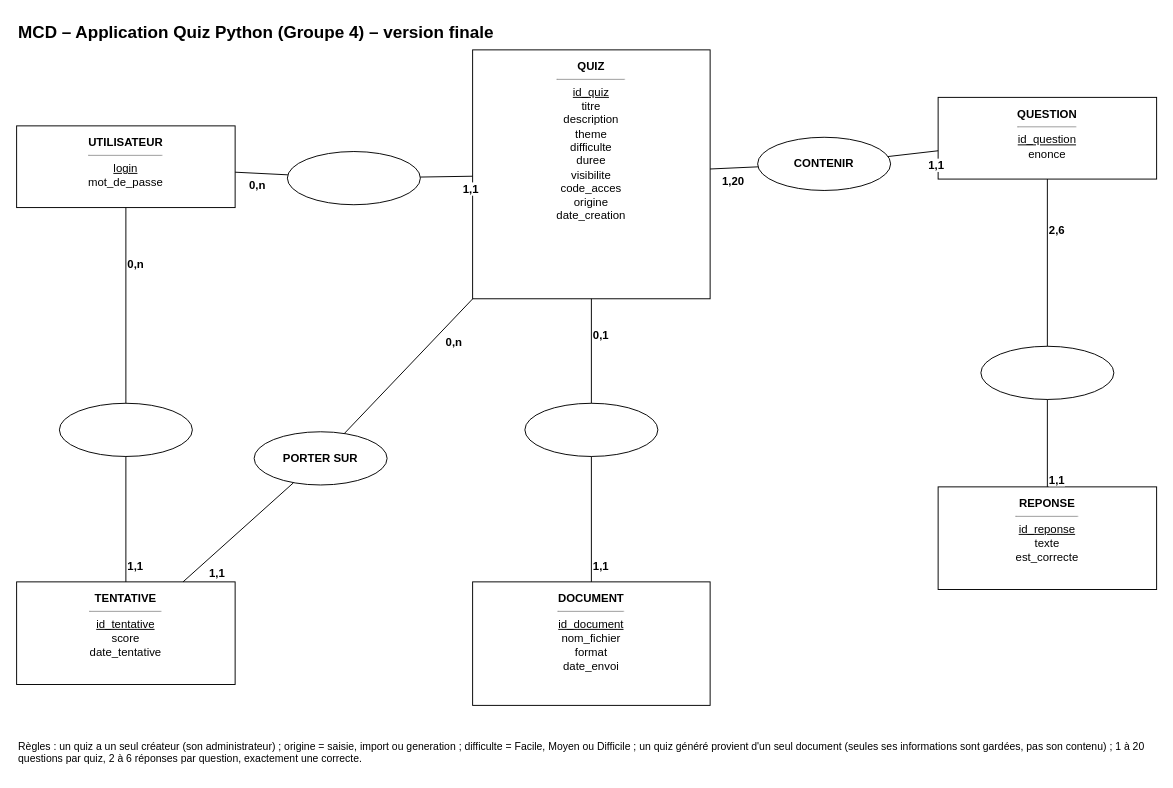
Image size: 1173x788. Some labels were removed from this diagram. Here are the shapes that lost their labels. From the top down, the centre of each, then its label:
pixel 353 178: CRÉER
pixel 1047 372: PROPOSER
pixel 125 429: EFFECTUER
pixel 591 429: GÉNÉRER
